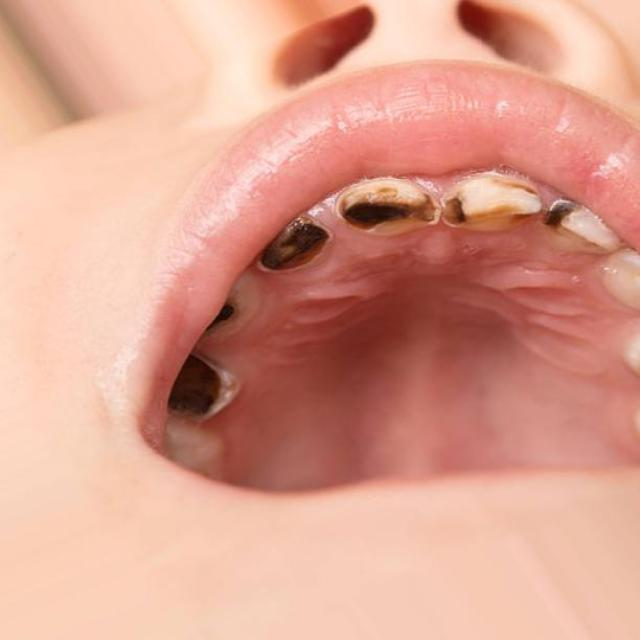caries: (334, 175, 444, 250), (165, 346, 253, 431), (442, 172, 540, 238), (258, 209, 336, 282), (541, 190, 608, 257), (196, 287, 254, 348)
